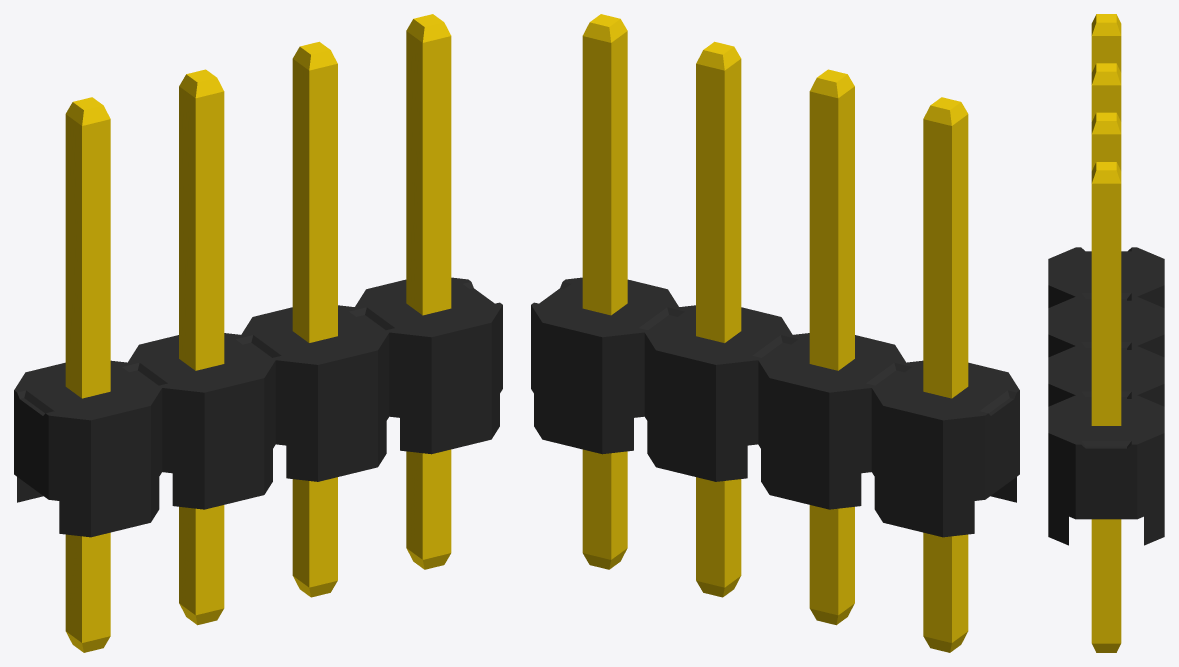
File: PLS4.glb
3 renders of one model, left to right at view 1: azimuth 30°, elevation 25°; view 2: azimuth 150°, elevation 25°; view 3: azimuth 270°, elevation 25°, orthographic. The views are drawn at different scales.
Visible parts, largest first — view 1: PLS (DS1021 CONNFLY); view 2: PLS (DS1021 CONNFLY); view 3: PLS (DS1021 CONNFLY).
Part boxes in pixels (box(x1,y1,x2,y2)): PLS (DS1021 CONNFLY): box(14, 14, 502, 652); PLS (DS1021 CONNFLY): box(531, 14, 1019, 652); PLS (DS1021 CONNFLY): box(1048, 14, 1164, 652).
Size of the model in its own units: 0.0102 by 0.0116 by 0.00254.
